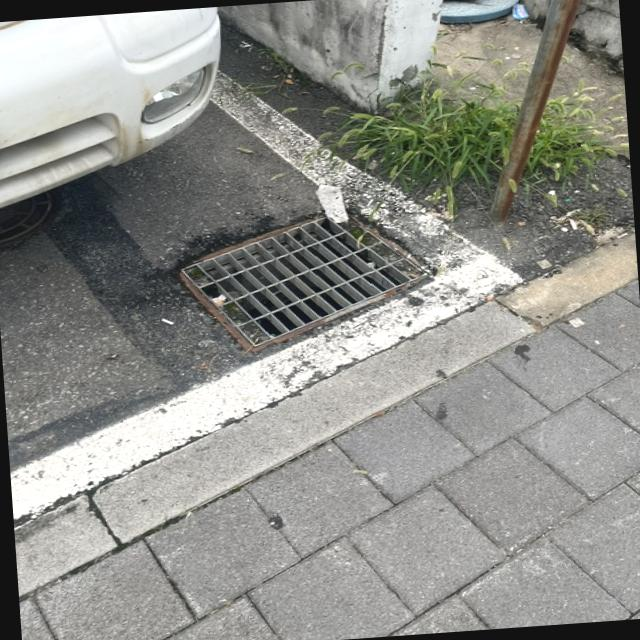drain_area: (199, 216, 409, 338)
drain_full: (181, 211, 425, 345)
